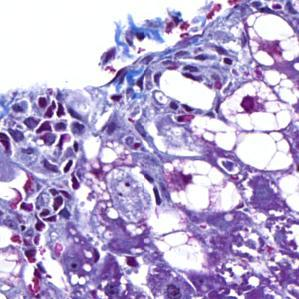ballooning: (158, 157, 245, 216), (144, 206, 210, 274), (217, 76, 294, 134), (243, 11, 299, 66), (234, 129, 296, 173)
